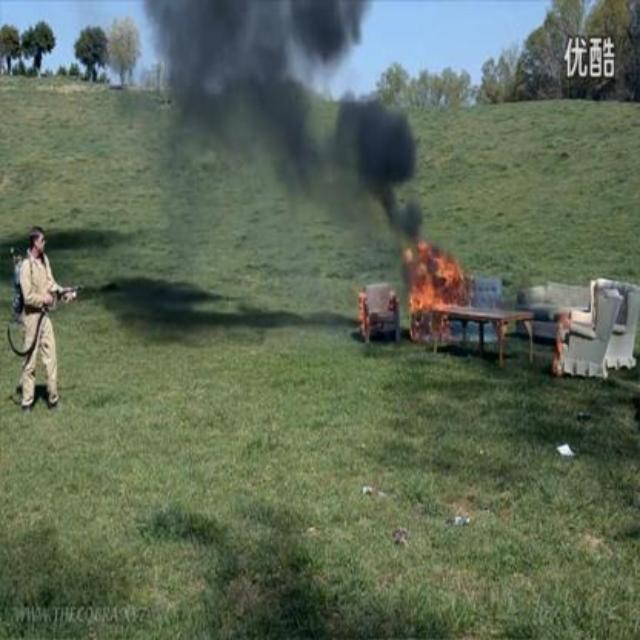Fire: (399, 238, 466, 346)
Smoke: (161, 7, 429, 240)
